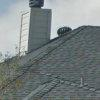Chimney: (12, 4, 56, 62)
